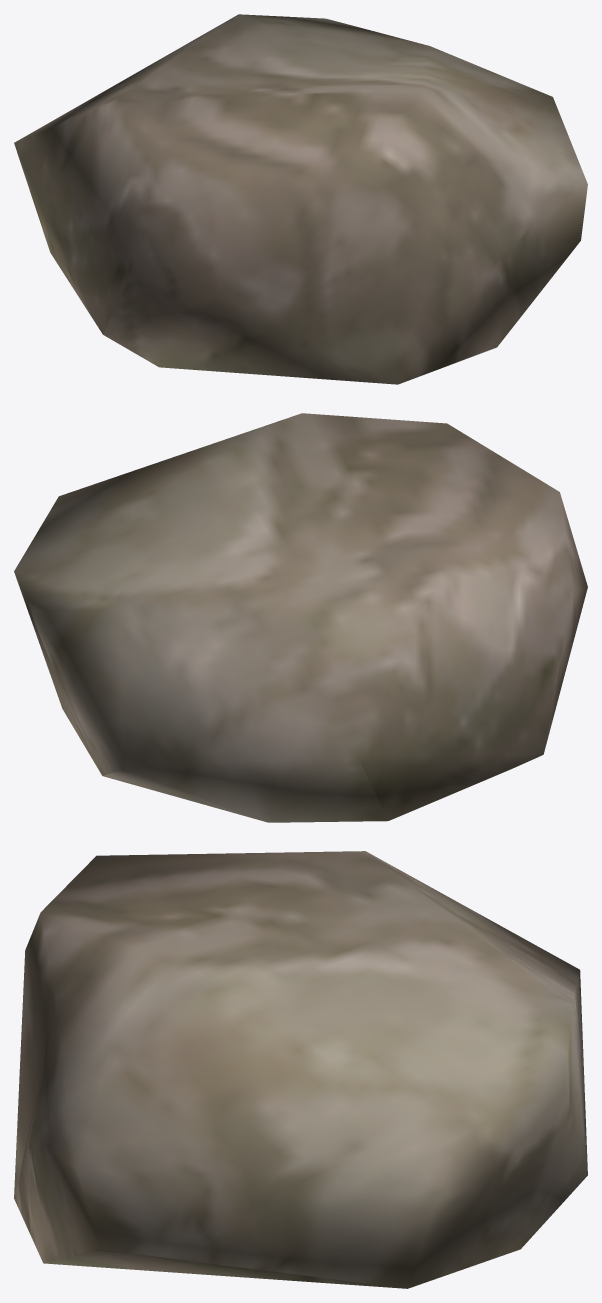
The model's file is Rock_4_C.fbx.
3 renders of one model, top to bottom at view 1: azimuth 30°, elevation 25°; view 2: azimuth 150°, elevation 25°; view 3: azimuth 270°, elevation 25°, orthographic. The views are drawn at different scales.
Parts seen in each view (by area): view 1: Rock_4_C_0_mesh; view 2: Rock_4_C_0_mesh; view 3: Rock_4_C_0_mesh.
Part boxes in pixels (left/top/right/bottom): Rock_4_C_0_mesh: left=14, top=14, right=587, bottom=384; Rock_4_C_0_mesh: left=14, top=413, right=587, bottom=822; Rock_4_C_0_mesh: left=14, top=851, right=587, bottom=1288.
Bounding box in the file's own units: 131 × 69.03 × 118.
